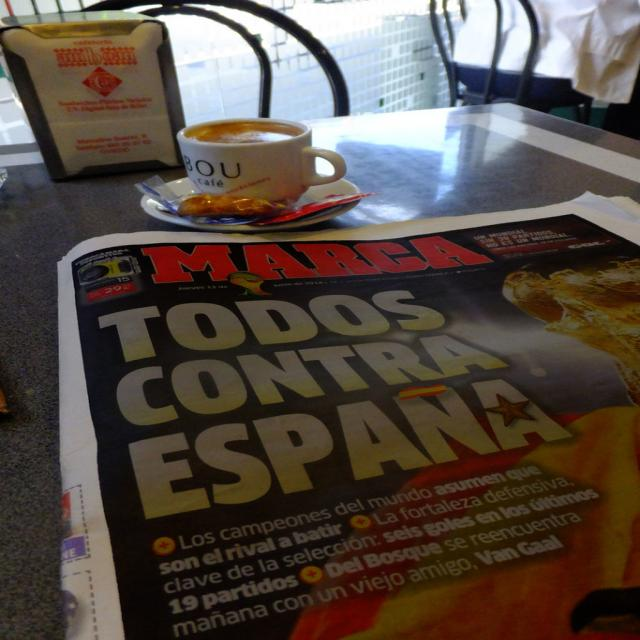Coffee: (179, 118, 319, 200), (199, 124, 309, 150), (190, 122, 308, 142)
Tea: (188, 120, 302, 144)
